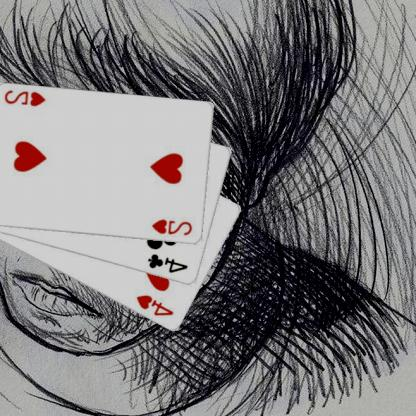2H: (151, 217, 196, 237), (4, 88, 49, 108)
4C: (146, 251, 192, 275)
4H: (135, 292, 177, 318)
